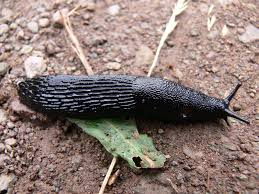slug: (19, 69, 237, 126)
